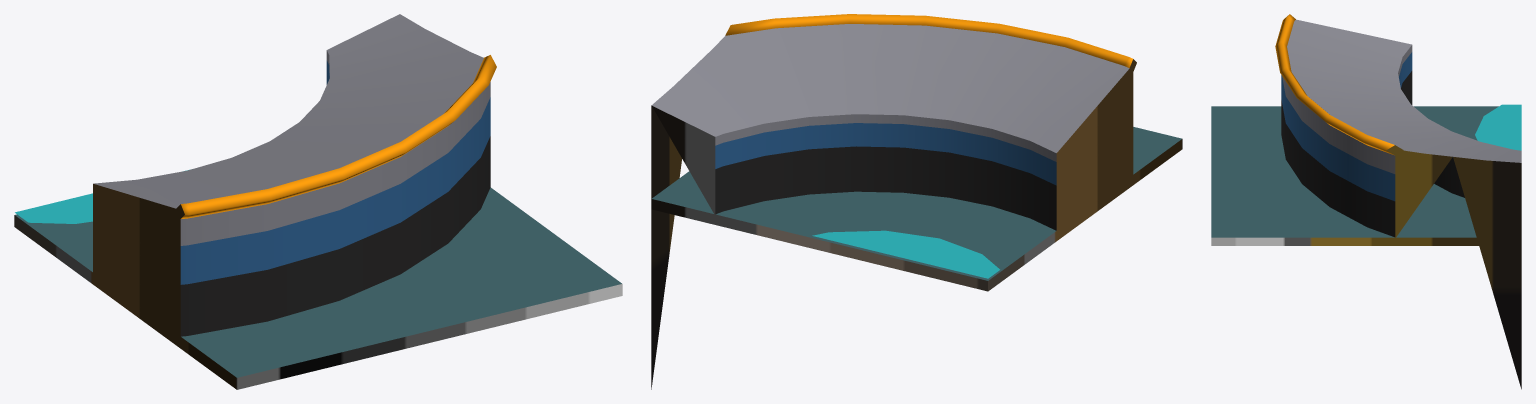
The model's file is tile_3_0_7.gltf.
The picture shows the model from 3 angles, left to right: view 1: azimuth 30°, elevation 25°; view 2: azimuth 150°, elevation 25°; view 3: azimuth 270°, elevation 25°; orthographic projection. The views are drawn at different scales.
Visible parts, largest first — view 1: grindcurve.01, ground, grindcurve.003, decal.circles; view 2: grindcurve.01, ground, grindcurve.003, decal.circles; view 3: grindcurve.01, ground, grindcurve.003, decal.circles.
Boxes of the visible parts, x1,y1,x2,y2 form: grindcurve.01: [93, 14, 490, 336]; ground: [14, 187, 622, 389]; grindcurve.003: [176, 55, 496, 218]; decal.circles: [15, 169, 189, 223]; grindcurve.01: [651, 24, 1133, 389]; ground: [651, 127, 1182, 291]; grindcurve.003: [725, 14, 1136, 71]; decal.circles: [812, 230, 999, 278]; grindcurve.01: [1281, 19, 1521, 389]; ground: [1211, 106, 1521, 245]; grindcurve.003: [1275, 14, 1403, 155]; decal.circles: [1475, 104, 1521, 150].
Size of what is drawn, in the model's own units: 8 by 6.97 by 8.
Materials: 2 (2 with a texture image).
